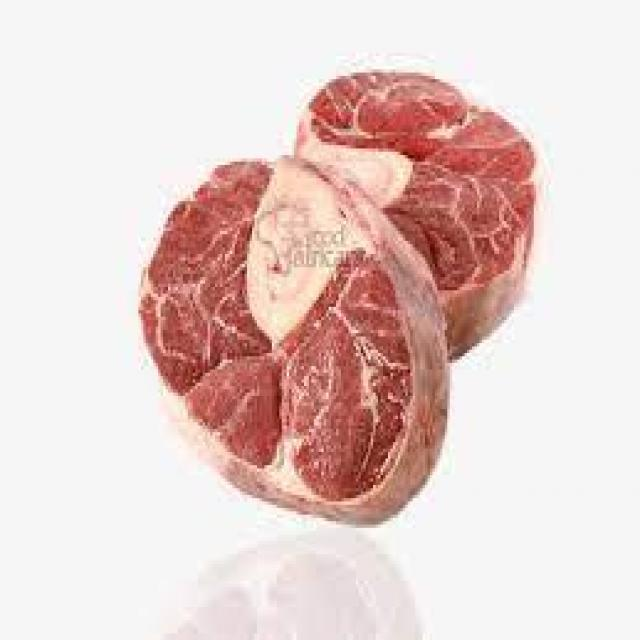Beef: (145, 271, 455, 516)
